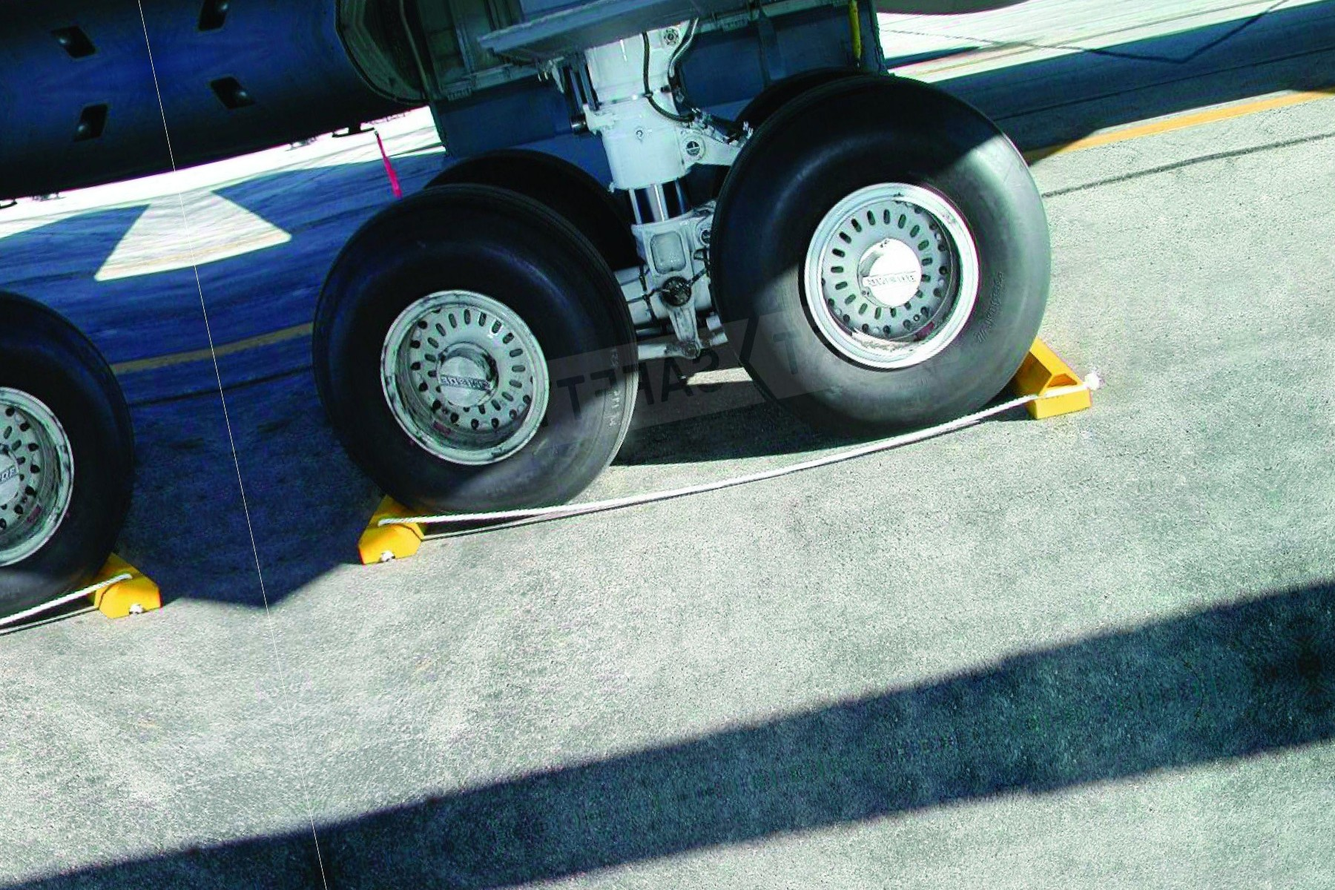chock: (990, 302, 1093, 426), (337, 459, 440, 572), (67, 516, 169, 629)
wheel: (681, 35, 1084, 458), (284, 148, 669, 544), (0, 255, 161, 651), (418, 124, 642, 308), (719, 54, 880, 135)
